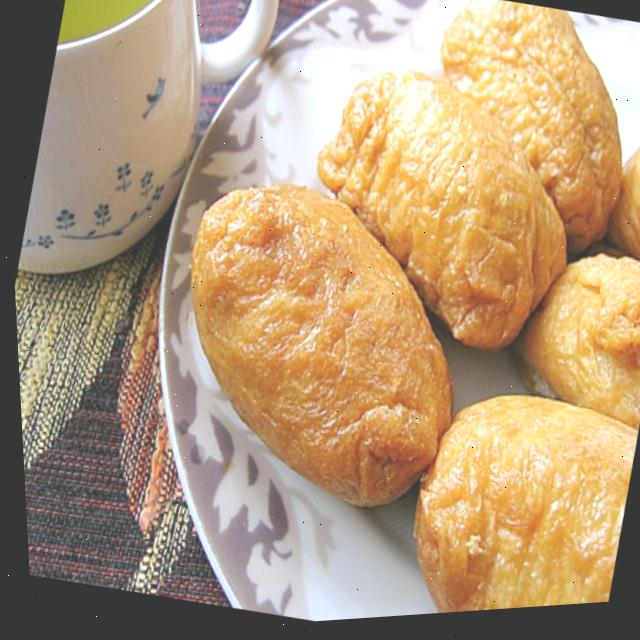寿司卷物: (86, 0, 640, 635)
